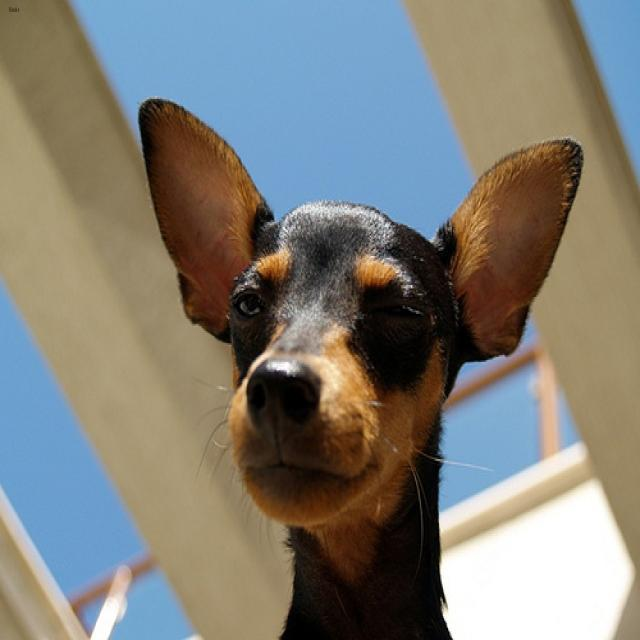dog-miniature_pinscher: (133, 92, 594, 637)
